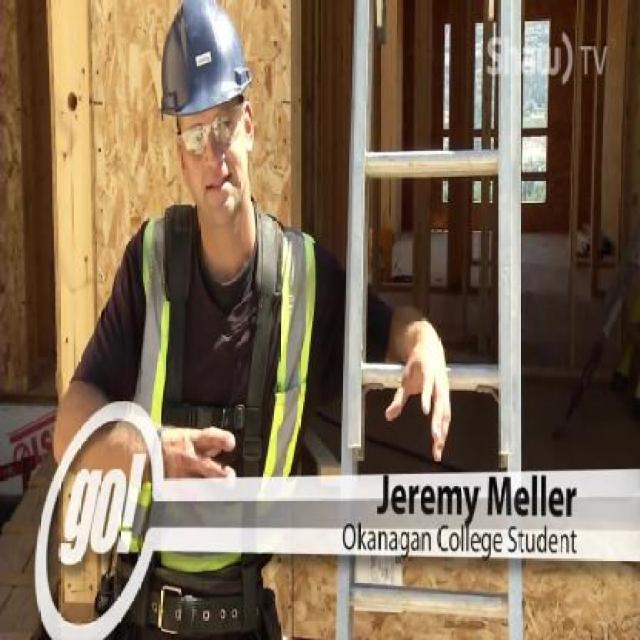Vest: (120, 212, 315, 574)
helmet: (160, 0, 255, 120)
person: (62, 2, 443, 638)
